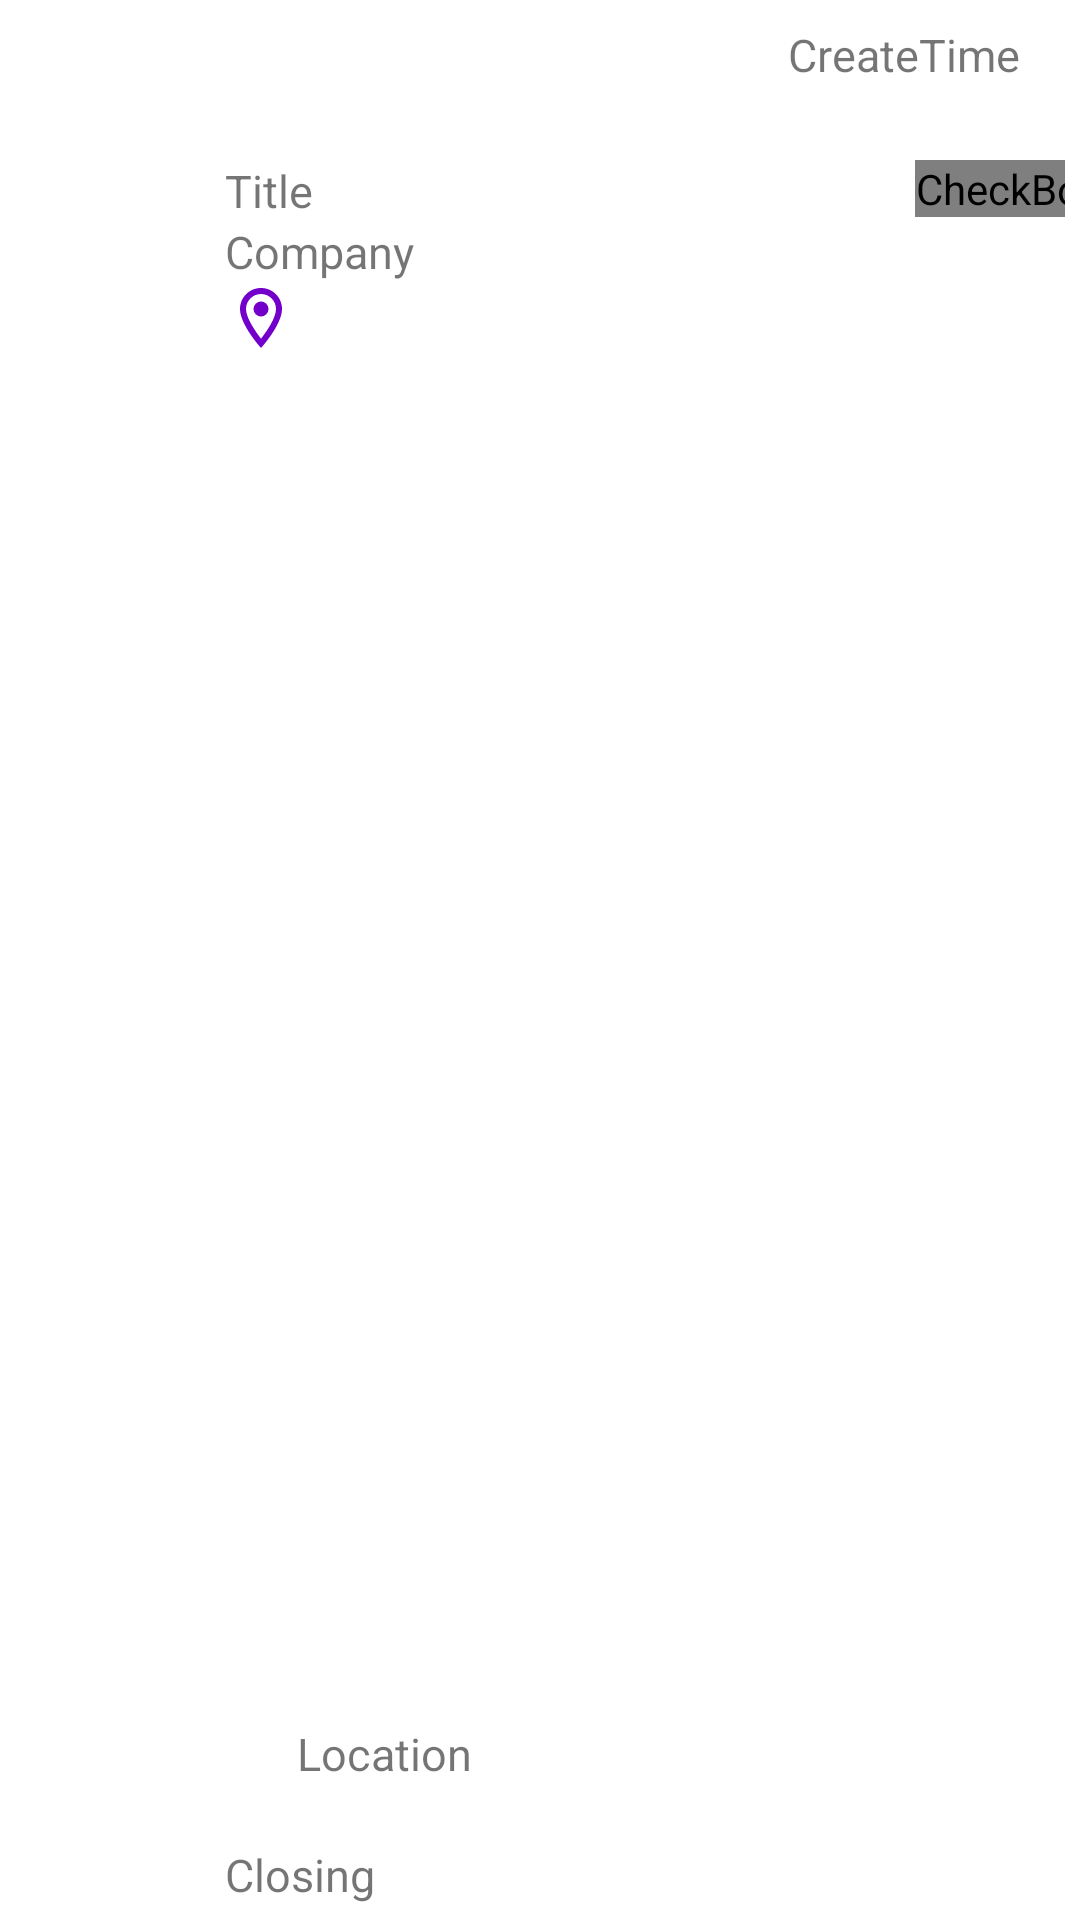

Where icons sit on this 1080w x 1920h app screen, as (x1, y1, x2, y2):
location: (240, 288, 282, 348)
